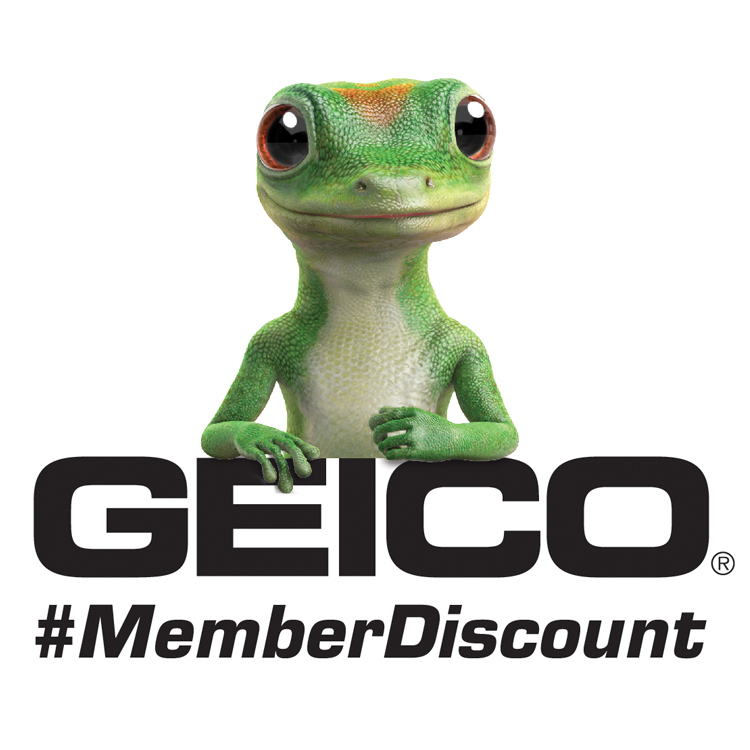Geico: (28, 449, 750, 592)
